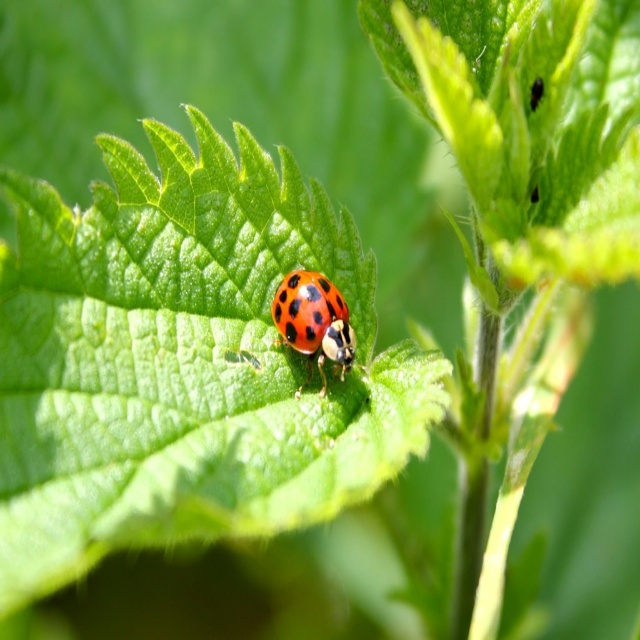Ladybug: (271, 271, 366, 399)
